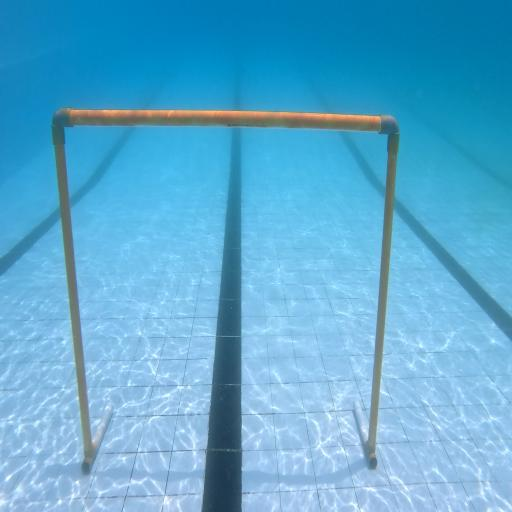gate: (52, 108, 399, 474)
